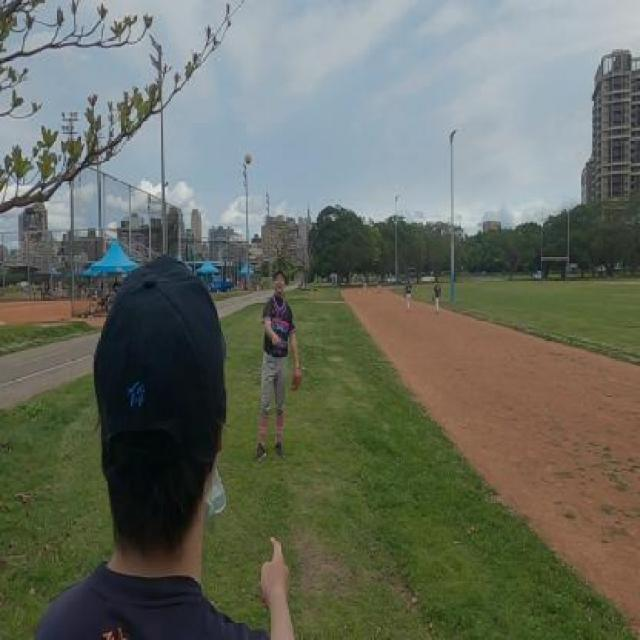baseball: (246, 152, 252, 165)
